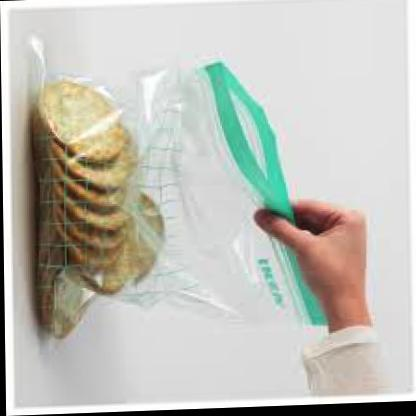Plastic: (40, 34, 338, 384)
